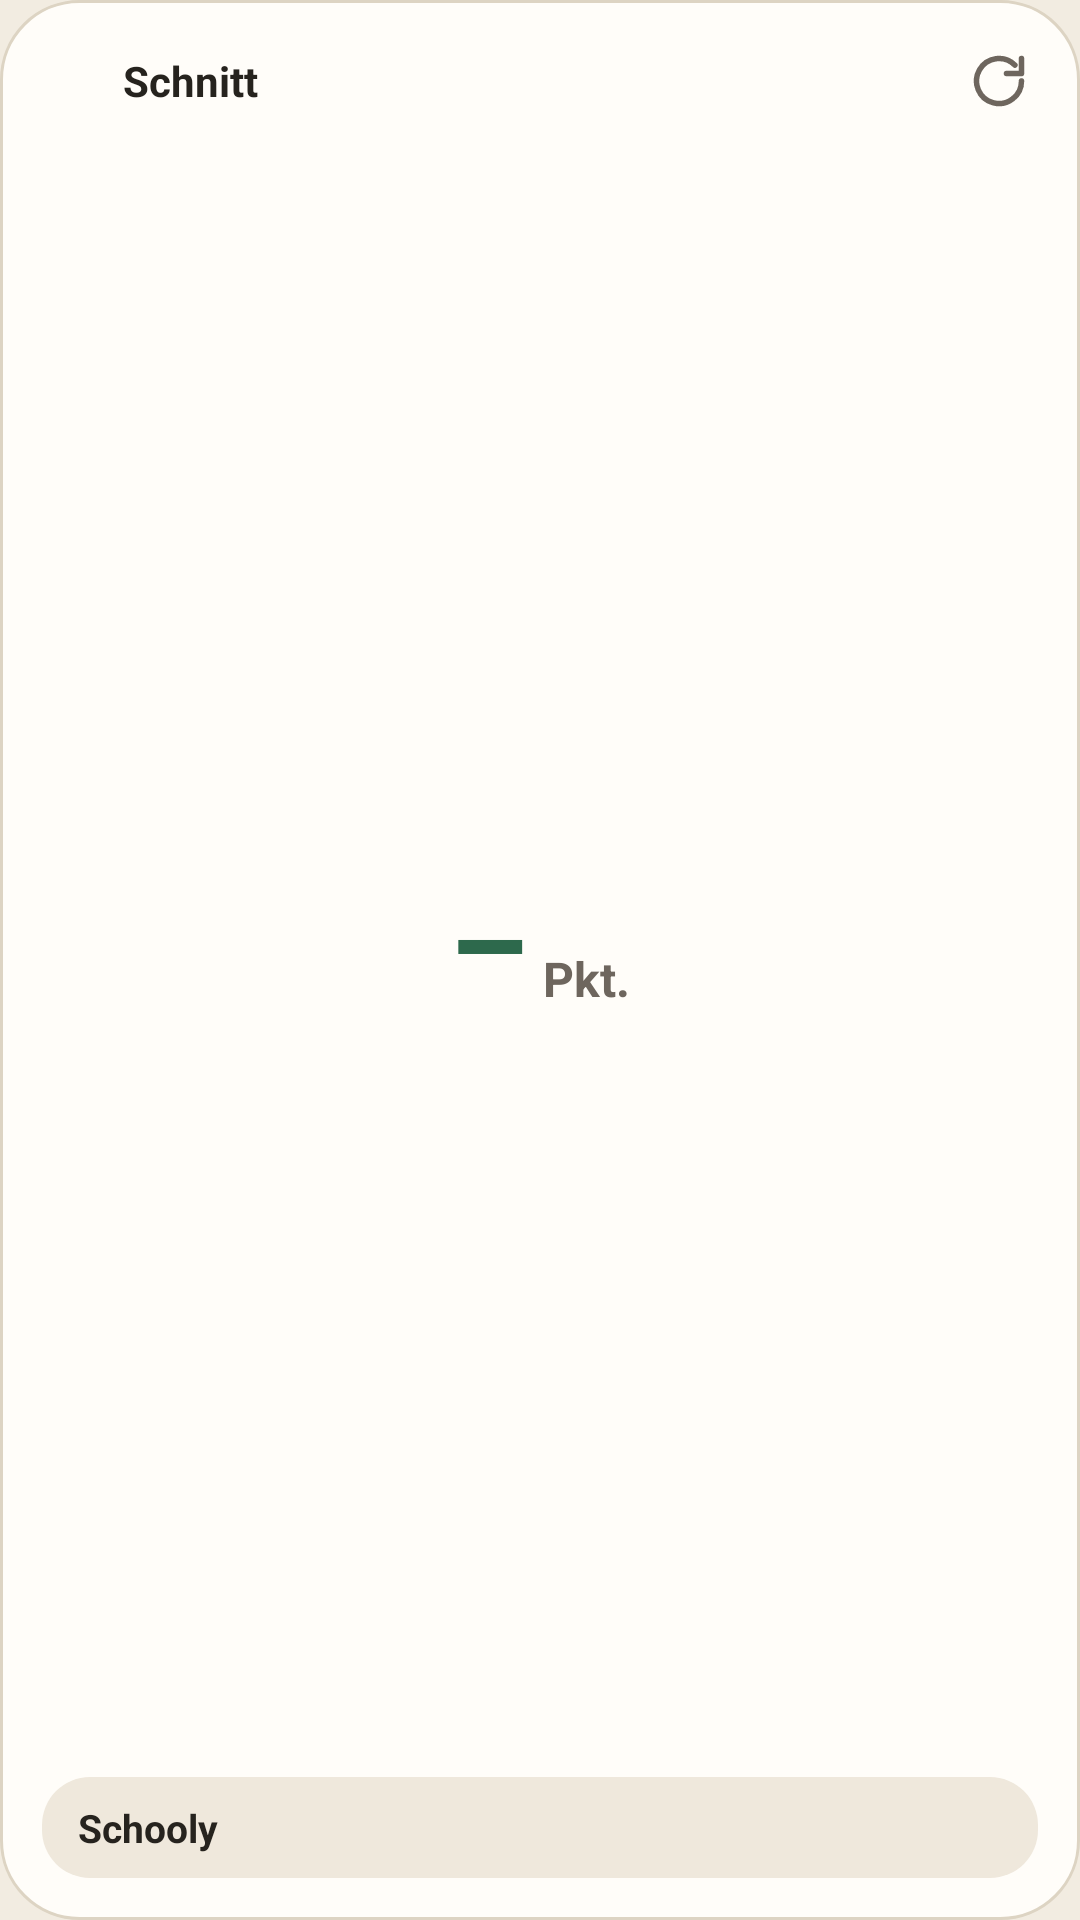

Locate icon controls on the screen. Image size 1080 × 1920, boxes as bbox=(x1, y1, x2, y2).
Aktualisieren: bbox=(973, 55, 1025, 107)
